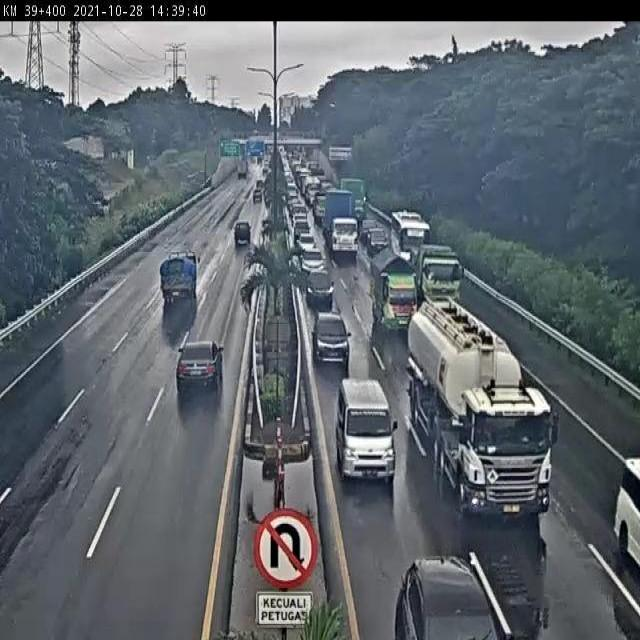big bus: (389, 212, 429, 265)
big truck: (405, 298, 560, 522), (323, 188, 363, 260)
car: (337, 380, 396, 479), (176, 341, 225, 395), (314, 313, 350, 364), (305, 269, 336, 304), (301, 248, 326, 277), (362, 227, 389, 249), (231, 224, 252, 251)
mid truck: (409, 246, 463, 302)
small truck: (160, 253, 198, 303)
truck-m-: (370, 256, 418, 327)
